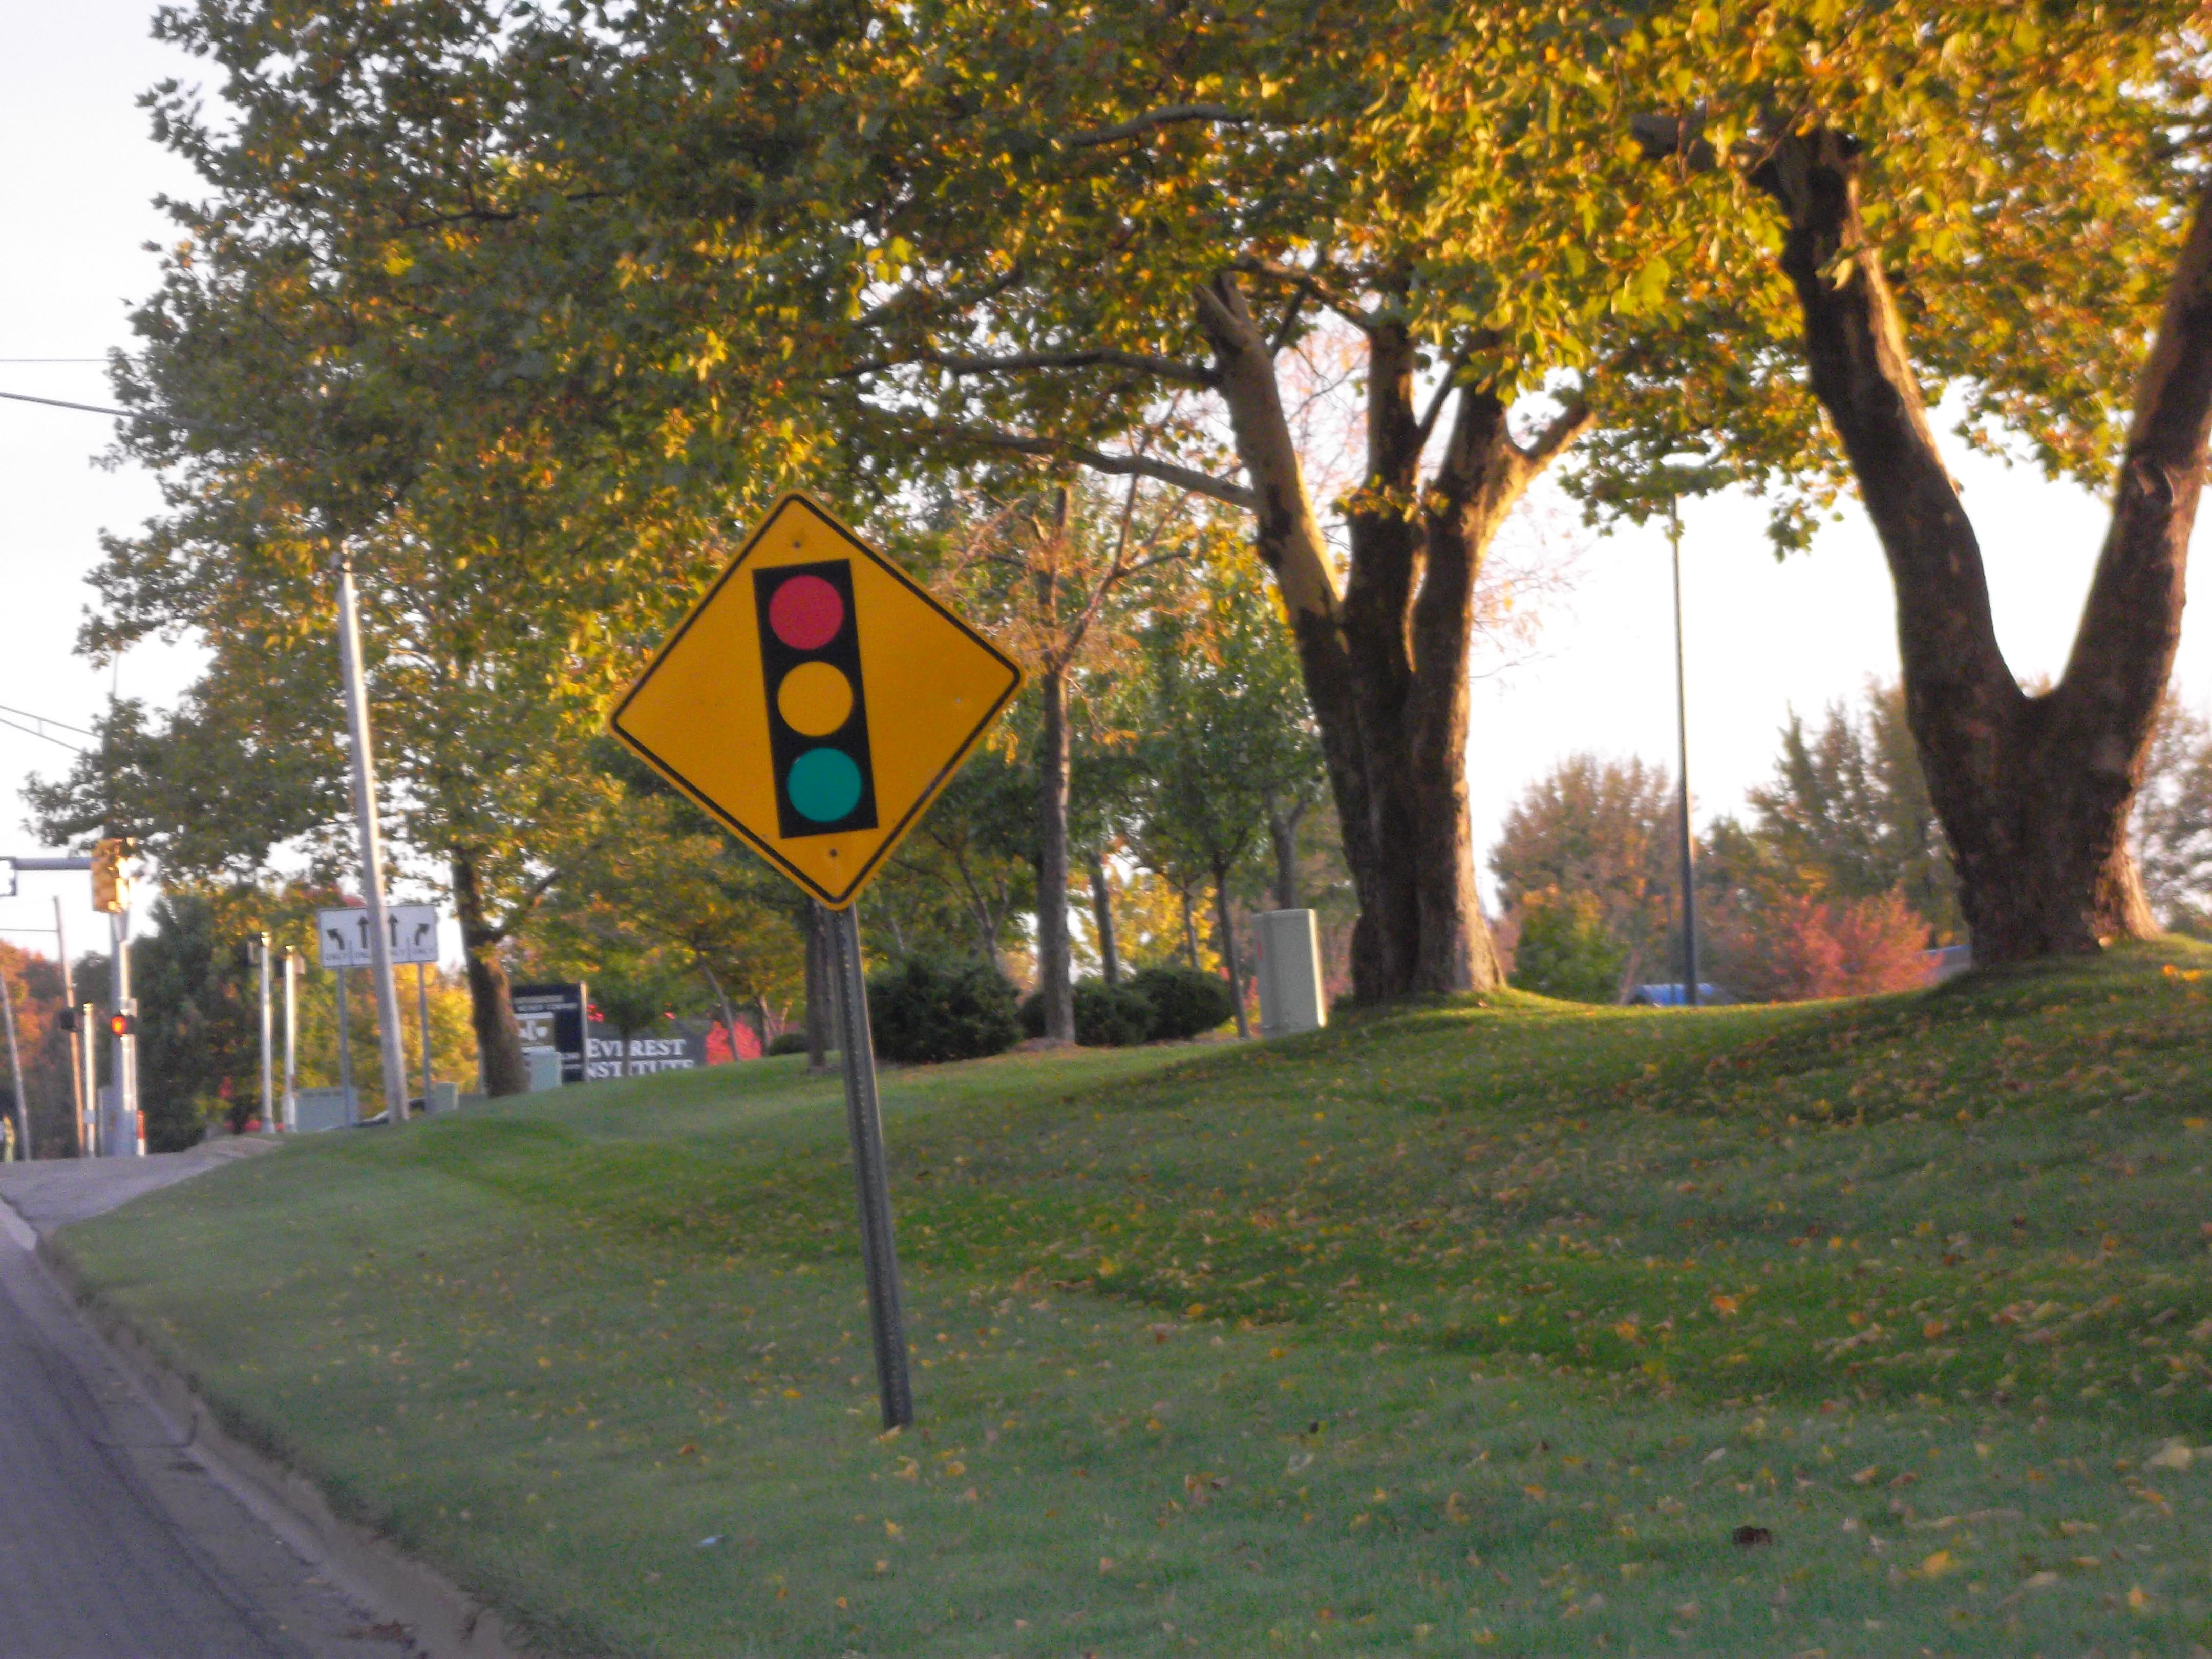regulatory: (314, 897, 449, 974)
warning: (590, 493, 1040, 932)
